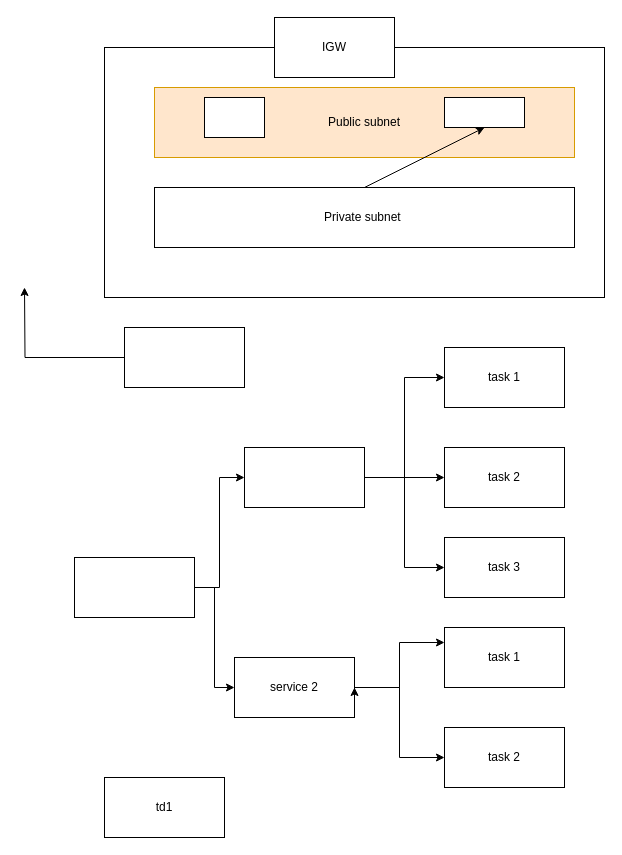
The diagram is 622 pixels wide and 855 high, and some of its shapes have lost their labels. The centre of each missing label's shape, as x and y in pixels:
"bastion host" goes at point (234, 117).
"ecs cluster" goes at point (134, 587).
"NAT gateway" goes at point (484, 112).
"service 1" goes at point (304, 477).
"td" goes at point (184, 357).
